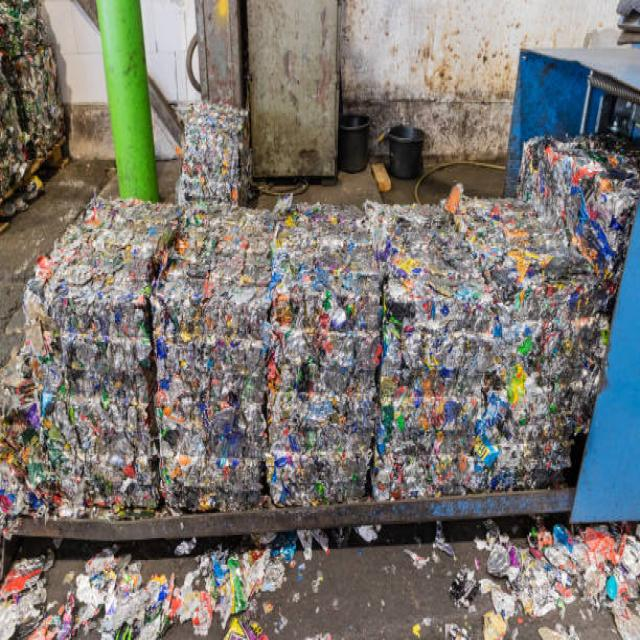plastic: (50, 219, 545, 506)
